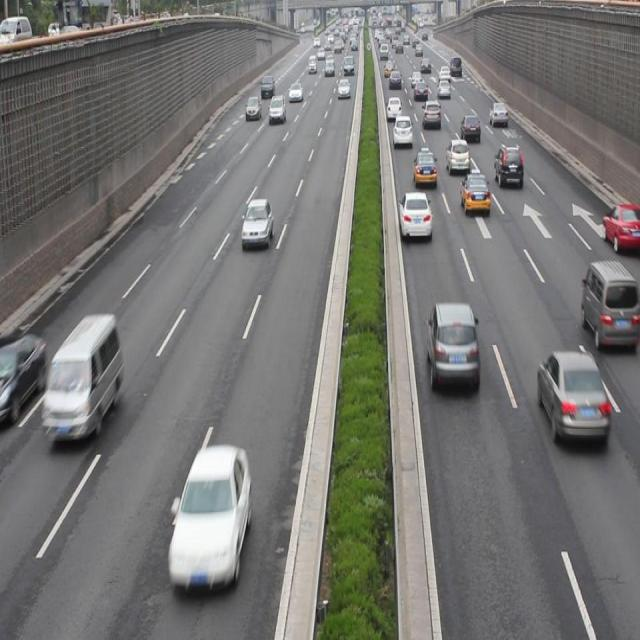car: (168, 444, 248, 589), (536, 347, 609, 442), (428, 299, 478, 392), (1, 326, 43, 422), (602, 202, 640, 250), (242, 195, 274, 249), (399, 190, 429, 240), (494, 142, 523, 190), (459, 170, 488, 216), (411, 149, 436, 185), (445, 136, 469, 173), (392, 113, 413, 149), (459, 112, 480, 144), (422, 98, 442, 130), (488, 98, 508, 127)
truck: (42, 315, 122, 440), (582, 260, 640, 347)
